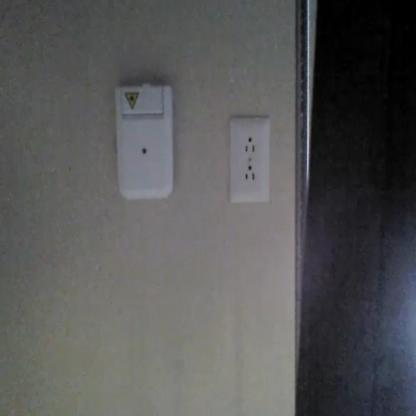OUTLET: (229, 117, 269, 204)
